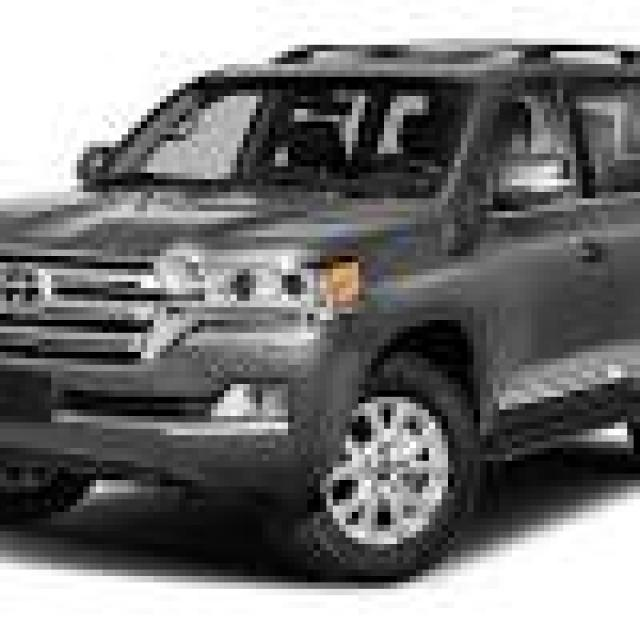light_vehicle: (19, 12, 634, 634)
